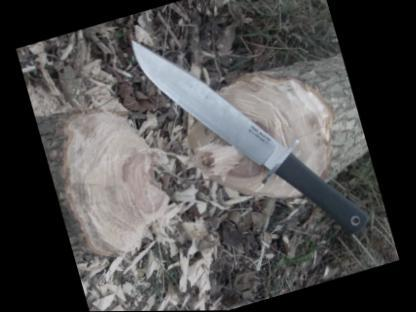knife: (126, 1, 298, 202)
